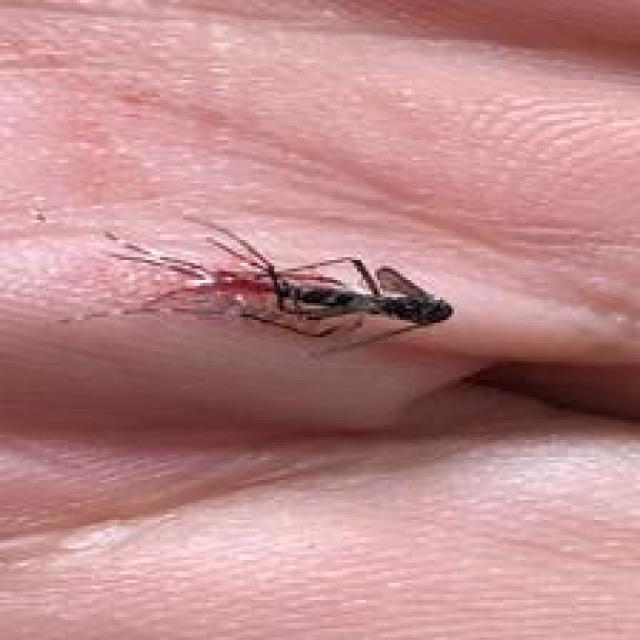Aedes albopictus: (77, 213, 454, 358)
